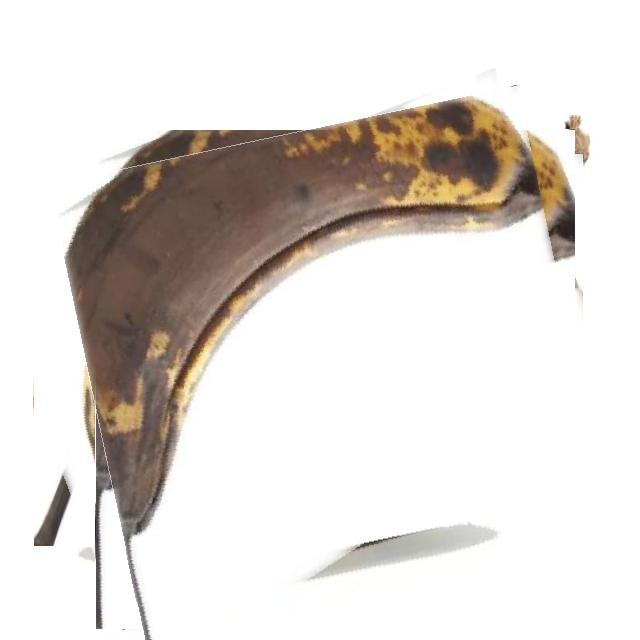Execivamente Madura: (68, 95, 543, 640)
